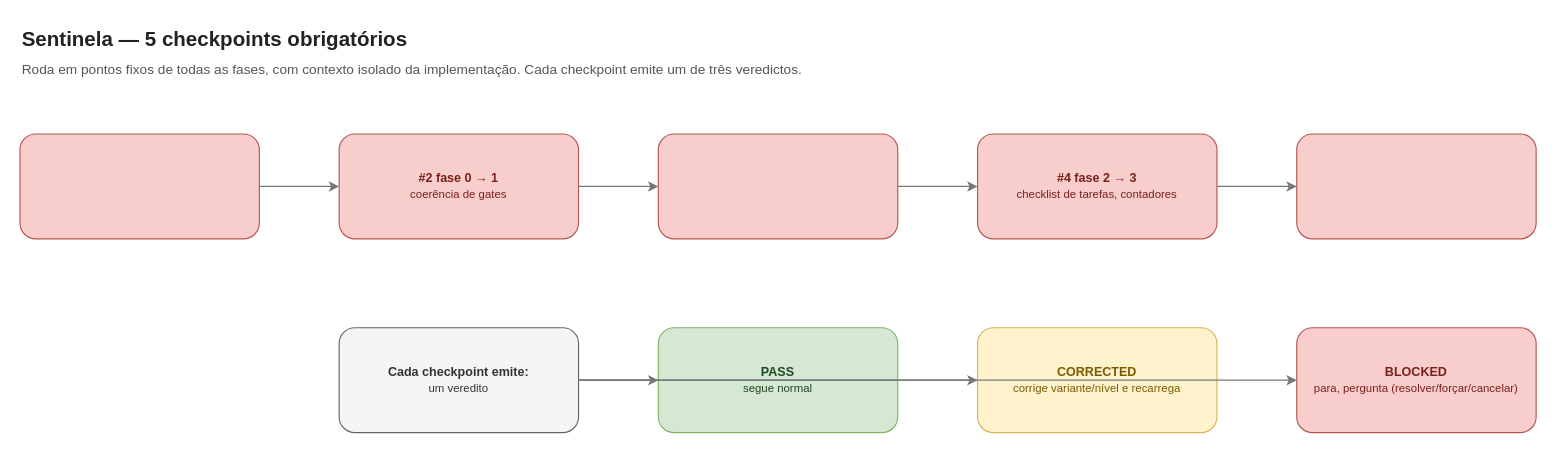
The diagram is 1556 pixels wide and 453 high, and some of its shapes have lost their labels. Each missing label, with the centre of its shape:
#1 pós-orquestrador valida tipo×nível→variante, SSOT: pixel 139 186
#3 fase 1 → 2 coerência: pixel 777 186
#5 pós-Pá de Cal nenhum gate obrigatório pulado: pixel 1416 186
